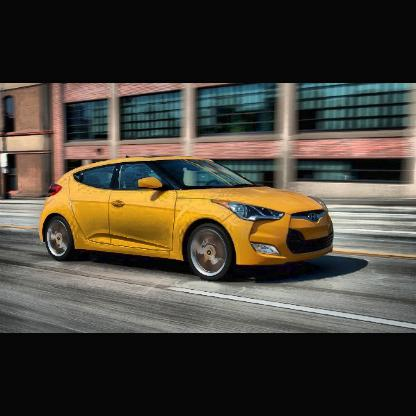Hyundai Veloster Hatchback 2012: (33, 150, 343, 289)
